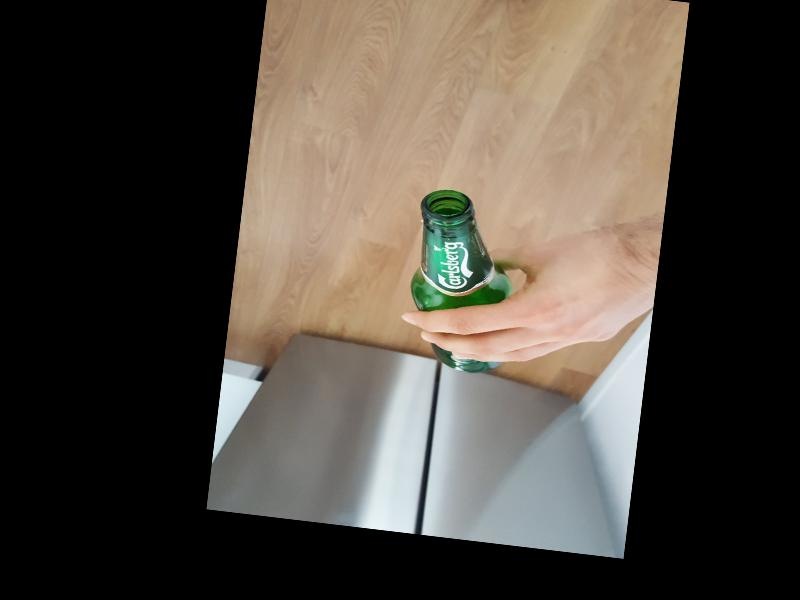Beer: (402, 186, 522, 375)
